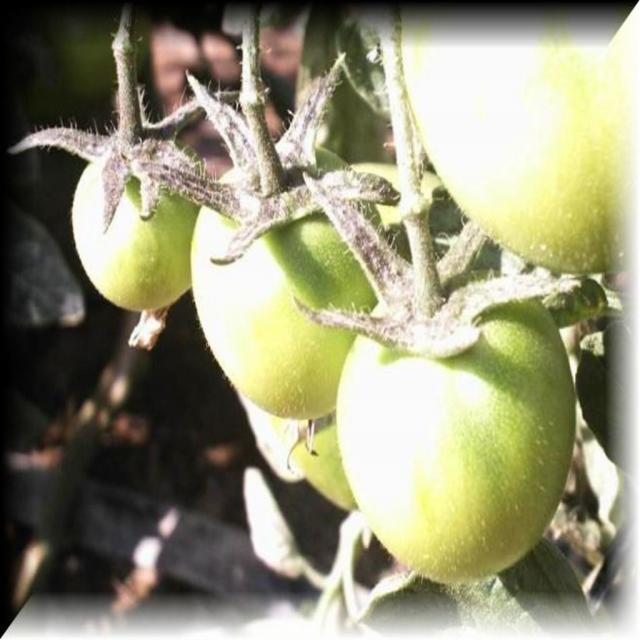Tomato: (289, 168, 605, 587), (149, 60, 403, 428), (396, 0, 639, 274), (10, 91, 242, 312)
